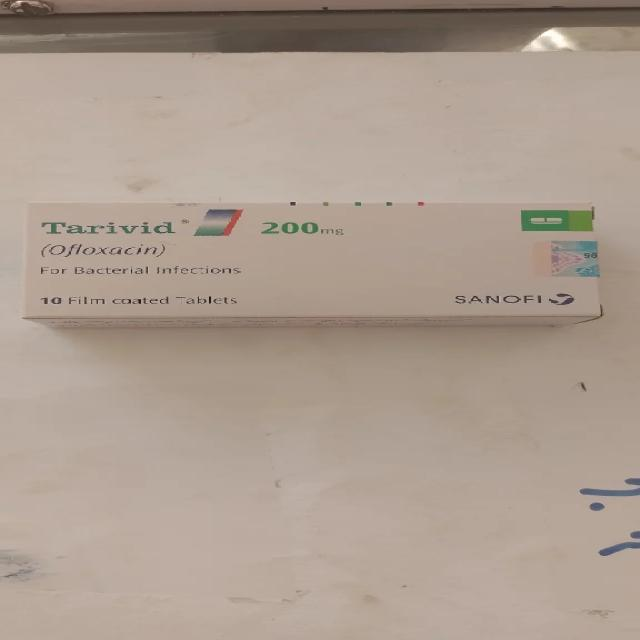drug-name: (41, 220, 178, 237)
